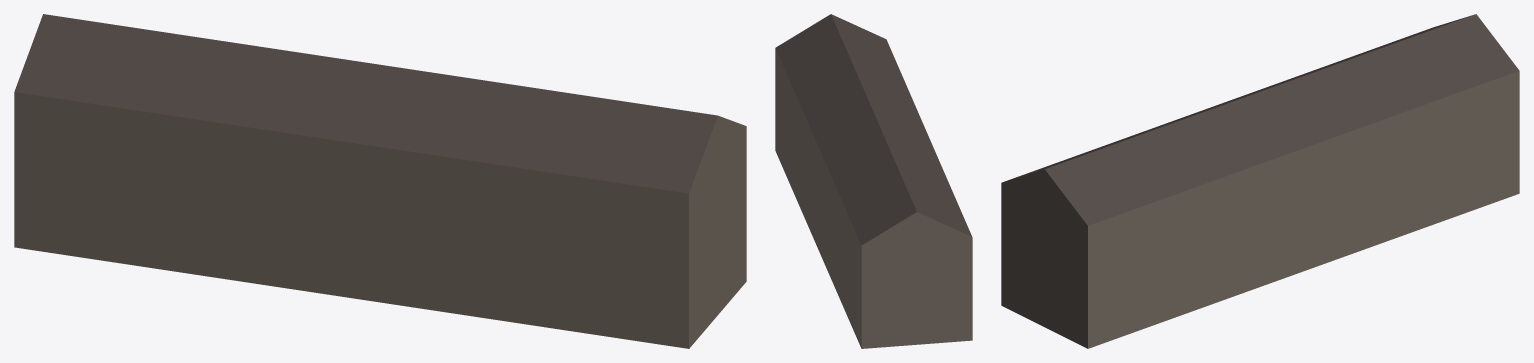
3 renders of one model, left to right at view 1: azimuth 30°, elevation 25°; view 2: azimuth 150°, elevation 25°; view 3: azimuth 270°, elevation 25°, orthographic. The views are drawn at different scales.
Parts seen in each view (by area): view 1: HP-w859488706; view 2: HP-w859488706; view 3: HP-w859488706.
Boxes of the visible parts, box(x1,y1,x2,y2) form: HP-w859488706: box(14, 14, 746, 348); HP-w859488706: box(775, 14, 972, 348); HP-w859488706: box(1001, 14, 1519, 348).
Bounding box in the file's own units: 31.18 × 11.57 × 34.37.
